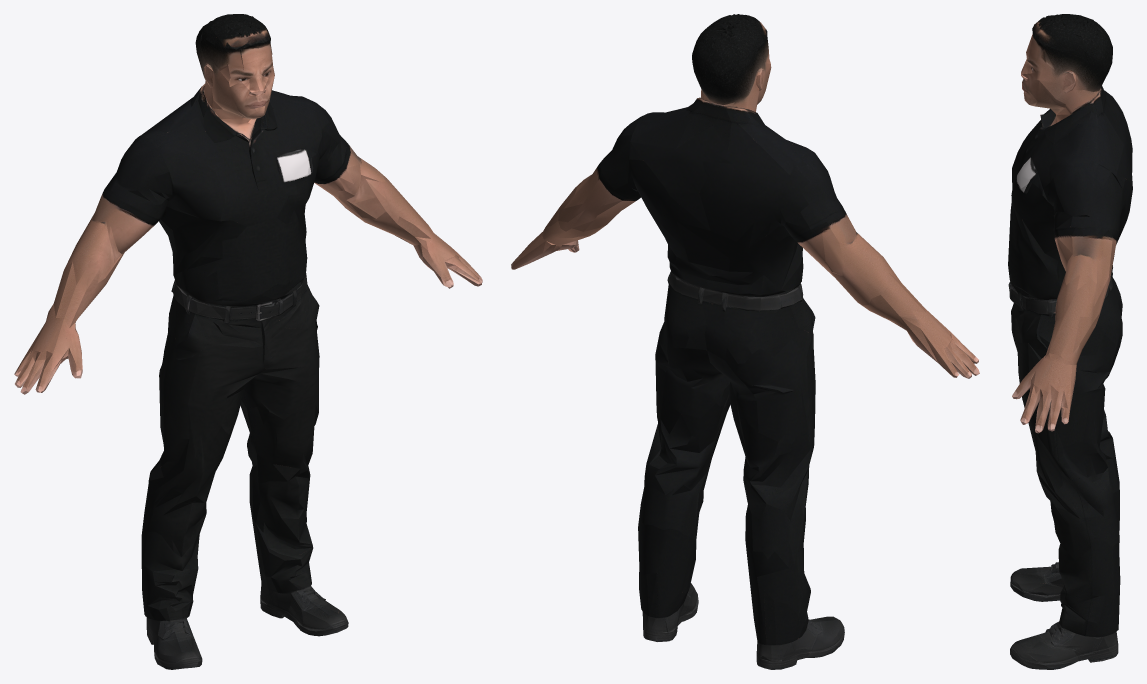
The model's file is image3d.glb.
The picture shows the model from 3 angles, left to right: view 1: azimuth 30°, elevation 25°; view 2: azimuth 150°, elevation 25°; view 3: azimuth 270°, elevation 25°; orthographic projection.
Size of the model in its own units: 1.49 by 1.9 by 0.3531.
Materials: 1 (1 with a texture image).
